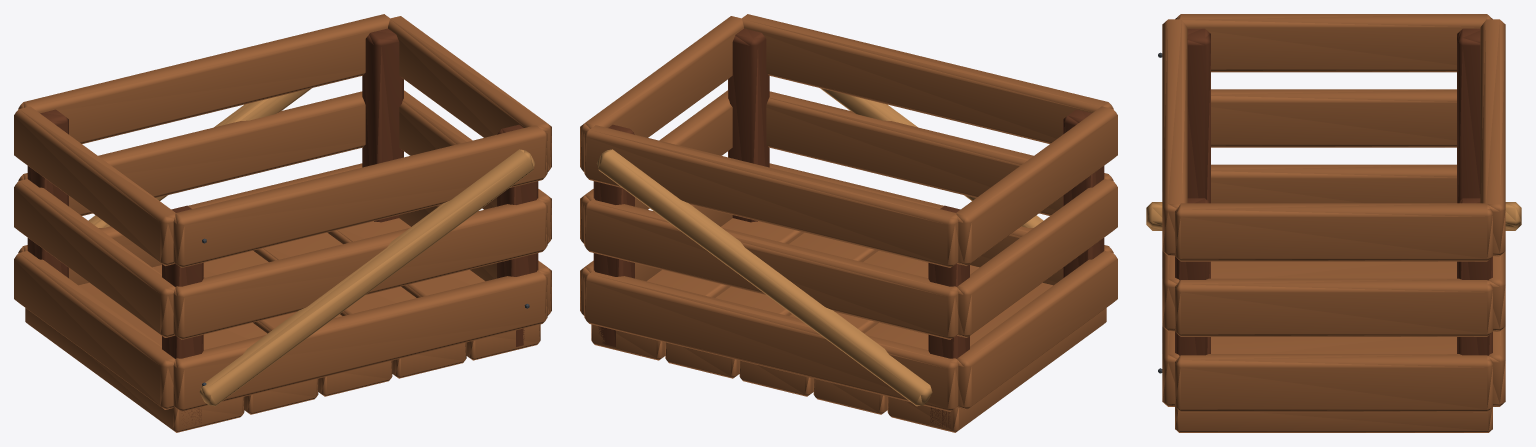
The model's file is wooden_crate.fbx.
3 renders of one model, left to right at view 1: azimuth 30°, elevation 25°; view 2: azimuth 150°, elevation 25°; view 3: azimuth 270°, elevation 25°, orthographic. The views are drawn at different scales.
Parts seen in each view (by area): view 1: wooden_crate; view 2: wooden_crate; view 3: wooden_crate.
Part boxes in pixels (left/top/right/bottom): wooden_crate: left=14, top=14, right=551, bottom=432; wooden_crate: left=580, top=14, right=1117, bottom=432; wooden_crate: left=1146, top=14, right=1521, bottom=432.
Size of the model in its own units: 65.5 by 35 by 51.9.
